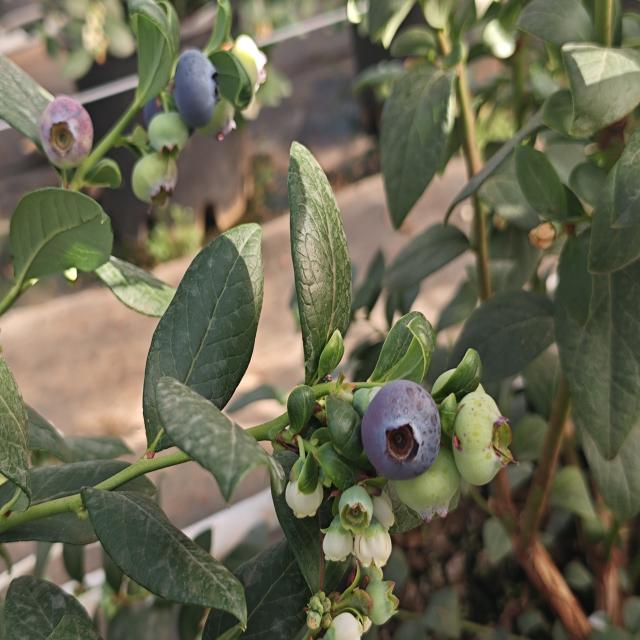ripe: (358, 378, 442, 483), (171, 47, 222, 133), (137, 88, 170, 133)
